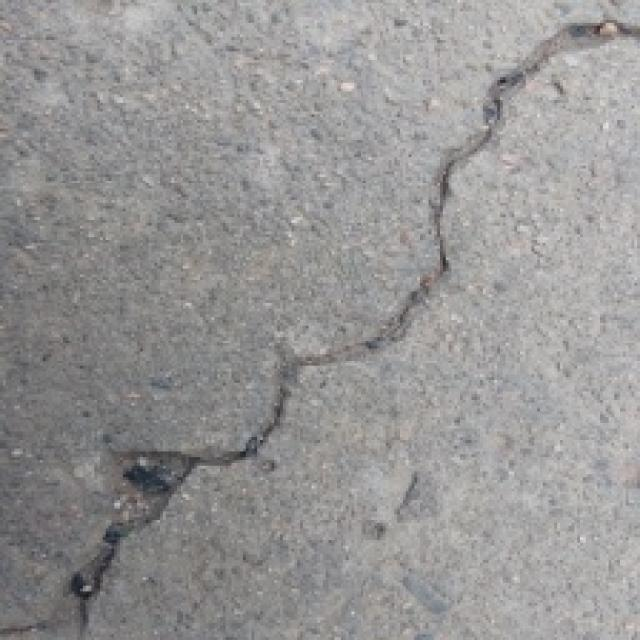SurfaceCrack: (36, 4, 634, 640)
